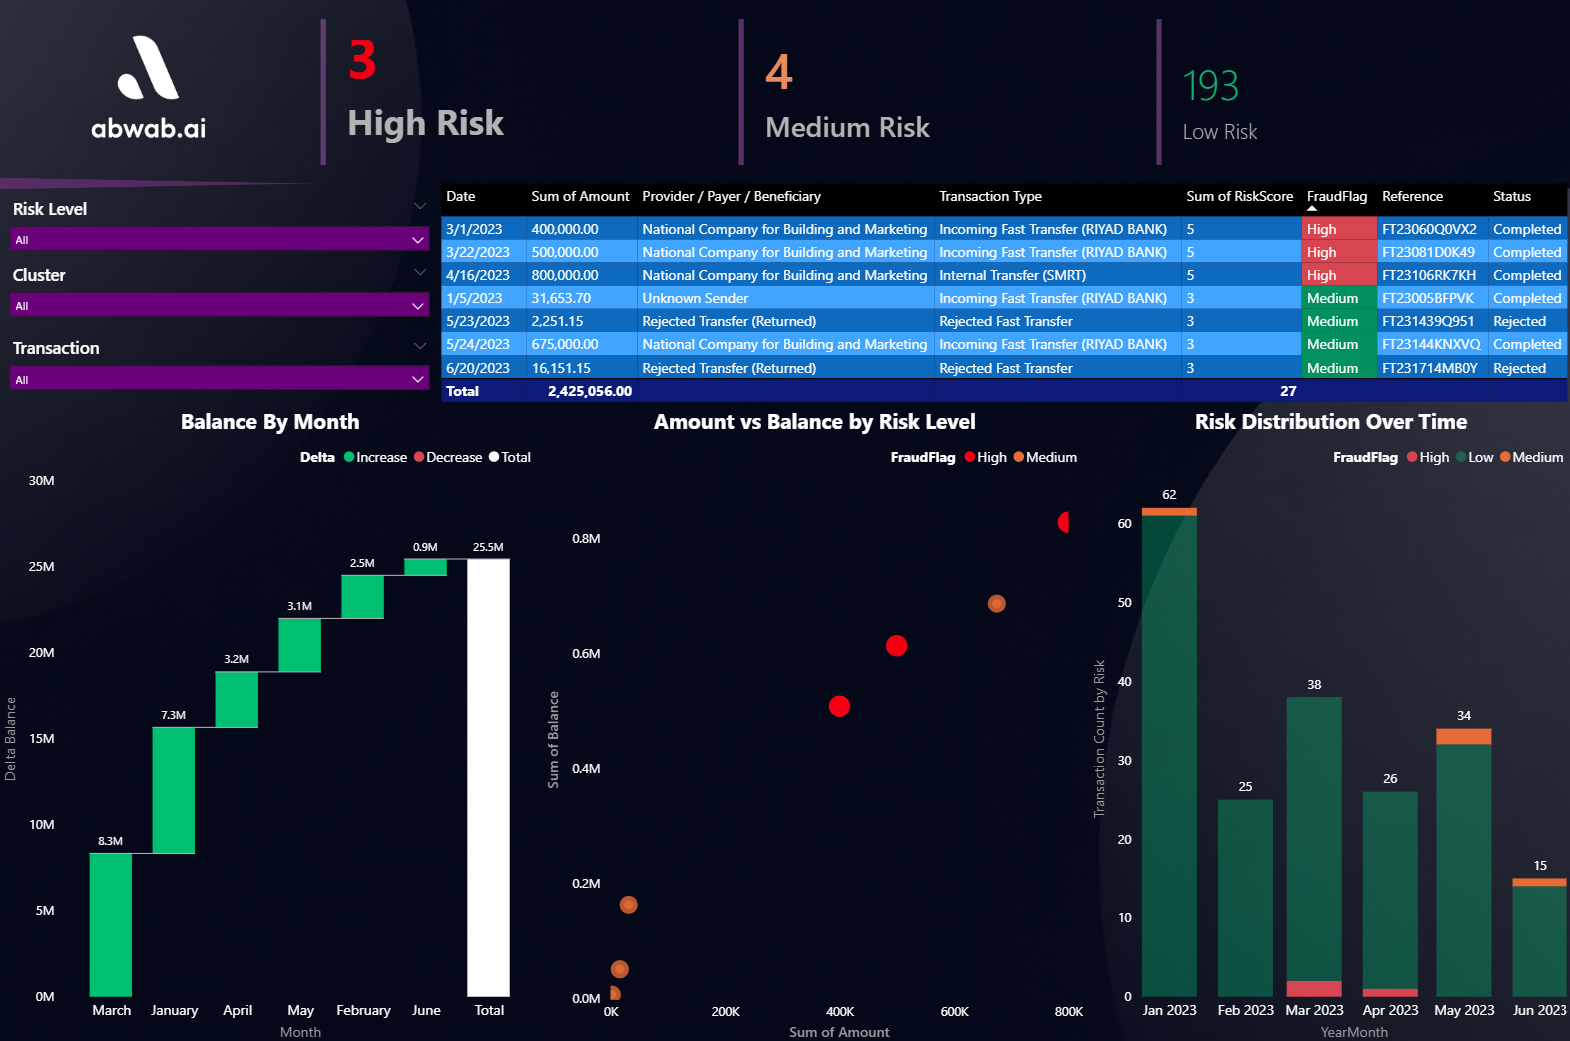

What the dashboard file says about the page in this screenshot:
{"tool":"powerbi","page":{"name":"Fraud & Risk Analysis","canvas":[1500,1000],"ordinal":1},"visuals":[{"type":"image","box":[0,0,284.2,172.5],"z":0},{"type":"cardVisual","fields":{"Data":["task.High Risk Count","task.Medium Risk","task.Low Risk"]},"box":[283.8,0,1216.2,183.8],"z":1000},{"type":"scatterChart","title":"Amount vs Balance by Risk Level","fields":{"X":["Sum(task.Amount)"],"Y":["Sum(task.Balance)"],"Series":["task.FraudFlag"],"Category":["task.Amount"]},"box":[516.7,391.7,520,608.3],"z":2000},{"type":"shape","box":[0,172.9,301.4,11.4],"z":3000},{"type":"tableEx","fields":{"Values":["task.Date","Sum(task.Amount)","task.Provider / Payer / Beneficiary","task.Transaction Type","Sum(task.RiskScore)","task.FraudFlag","task.Reference","task.Status"]},"box":[420,178.3,1080,213.3],"z":4000},{"type":"columnChart","title":"Risk Distribution Over Time","fields":{"Category":["Calendar.YearMonth"],"Y":["task.Transaction Count by Risk"],"Series":["task.FraudFlag"]},"box":[1036.7,391.7,463.3,608.3],"z":5000},{"type":"slicer","fields":{"Values":["task.FraudFlag"]},"box":[0,185,420,63.3],"z":6000},{"type":"slicer","fields":{"Values":["task.Cluster"]},"box":[0,248.3,420,73.3],"z":7000},{"type":"slicer","fields":{"Values":["task.Transaction Type"]},"box":[0,318.3,420,73.3],"z":8000},{"type":"waterfallChart","title":"Balance By Month","fields":{"Y":["Calendar.Delta Balance"],"Category":["Calendar.MonthName"]},"box":[0,391.7,516.7,608.3],"z":9000}]}

Visuals, with their boxes in screenshot pixels (x1, y1, x2, y2), scaled from the page's 1500x1000 canvas onto the 1570x1041 screenshot:
image: 0/0/297/180
cardVisual - task.High Risk Count x task.Medium Risk: 297/0/1569/191
"Amount vs Balance by Risk Level" scatterChart: 541/408/1085/1040
shape: 0/180/315/192
tableEx - task.Date x Sum(task.Amount): 440/186/1569/408
"Risk Distribution Over Time" columnChart: 1085/408/1569/1040
slicer - task.FraudFlag: 0/193/440/258
slicer - task.Cluster: 0/258/440/335
slicer - task.Transaction Type: 0/331/440/408
"Balance By Month" waterfallChart: 0/408/541/1040
